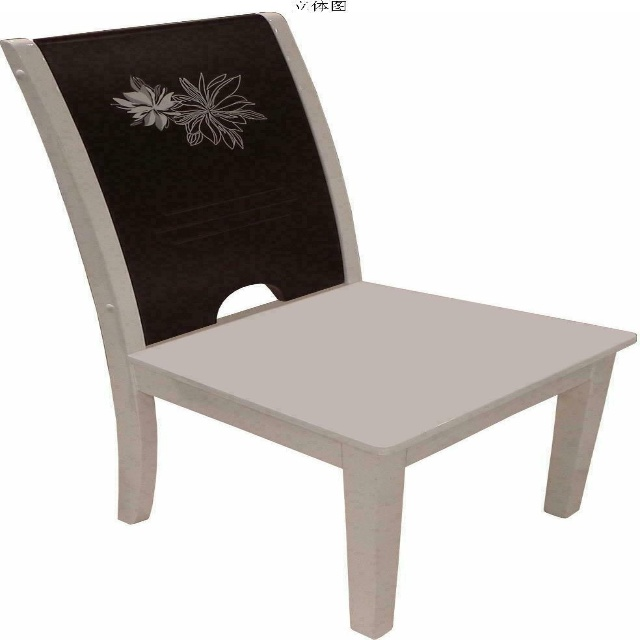obstacle: (0, 61, 367, 640), (1, 0, 637, 331), (380, 345, 637, 640)
